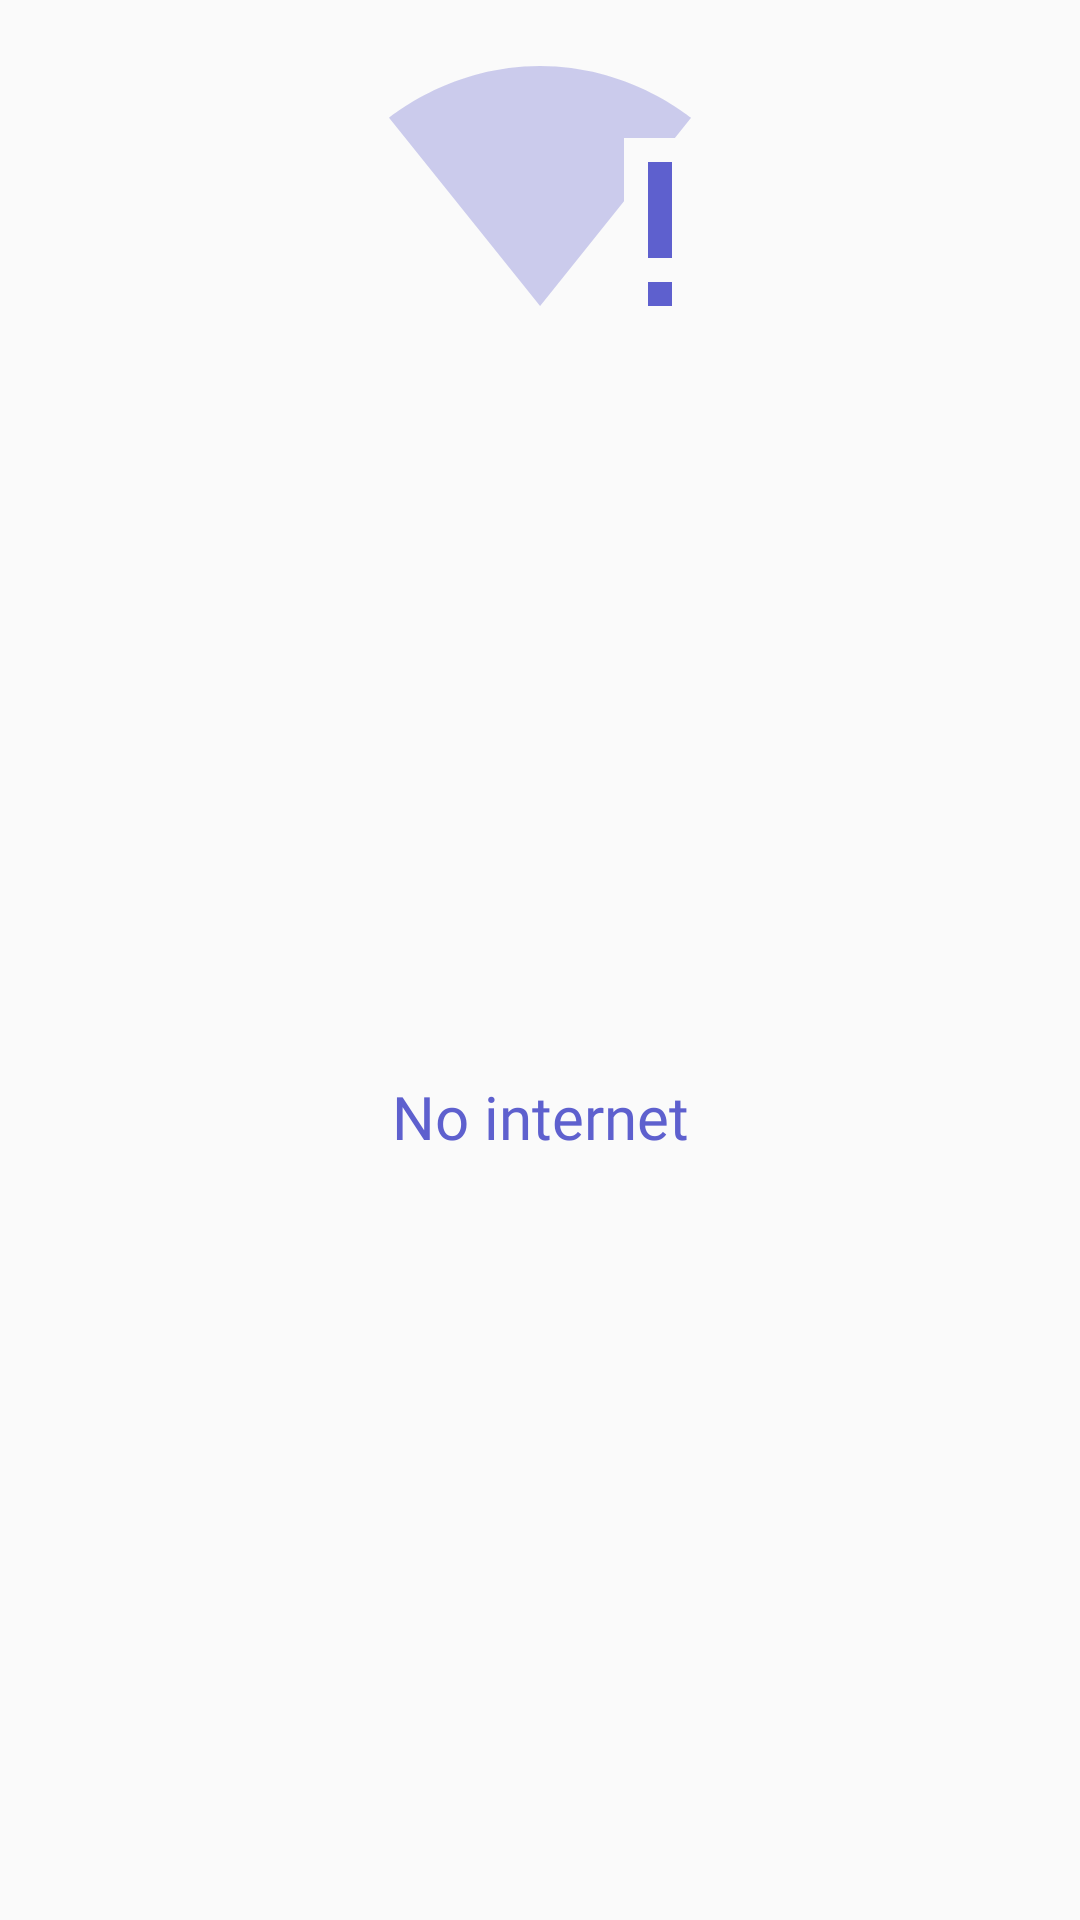

Locate icon controls on the screen. Image size 1080 x 1920, boxes as Rect(x1, y1, x2, y2).
no wifi: Rect(389, 66, 691, 306)
